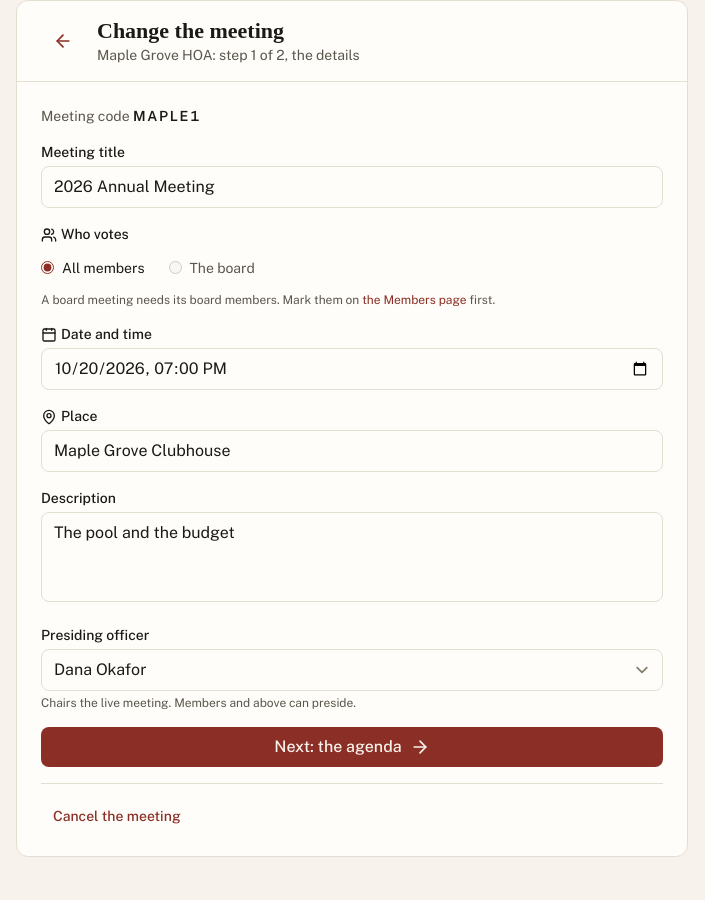
MeetingScheduler, changing a scheduled meeting › shows the server's refusal and stays on the details
Expected: the field showing "2026 Annual Meeting" is shown, [41,166,663,208]
Select "Pat Lindqvist" in the dropdown labelled "Presiding officer" at (352, 670), box [41,648,663,690]
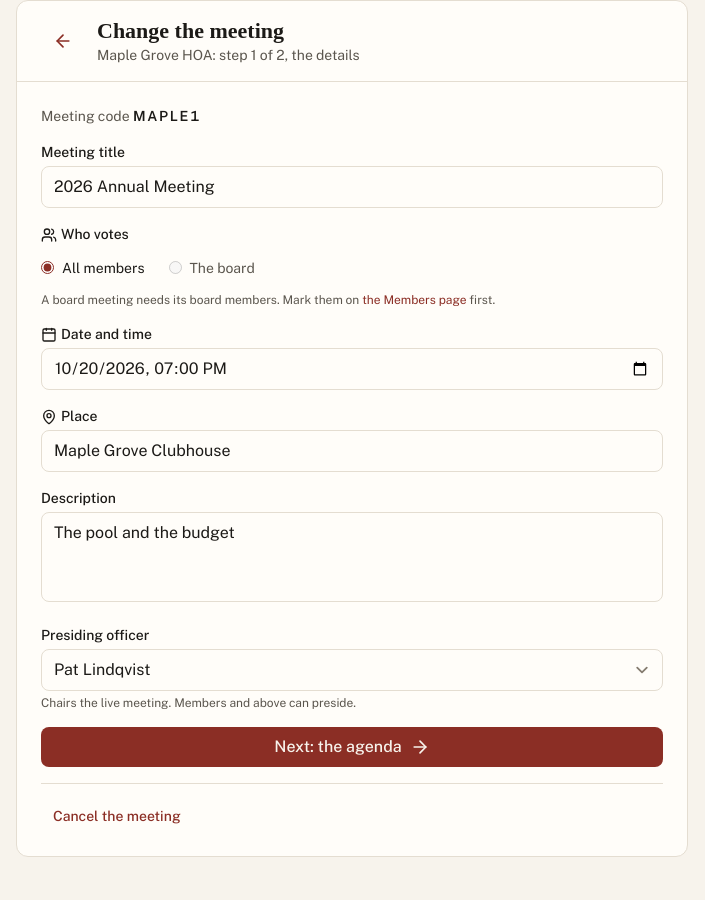
Click the button "Next: the agenda".
click(352, 746)  # box [41,726,663,766]
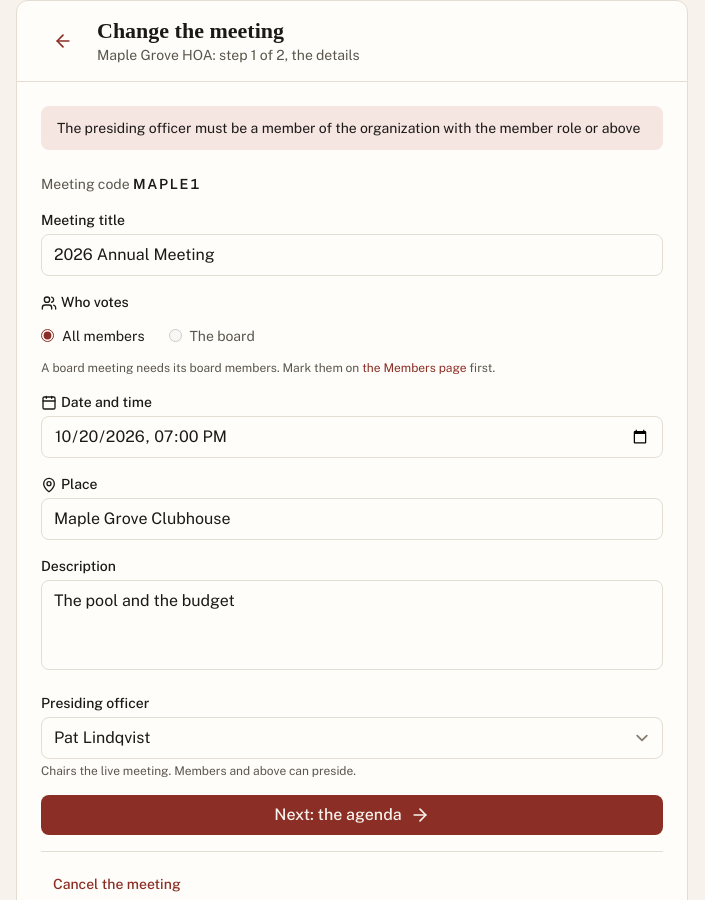
Expected: the message shows "The presiding officer must be a member", [57,120,640,136]
